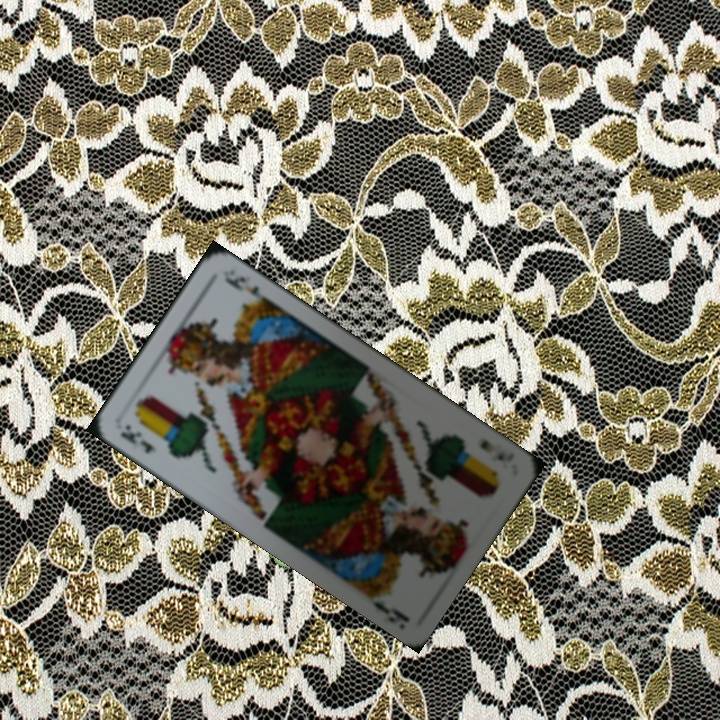EK: (117, 420, 160, 457), (475, 435, 517, 465)
